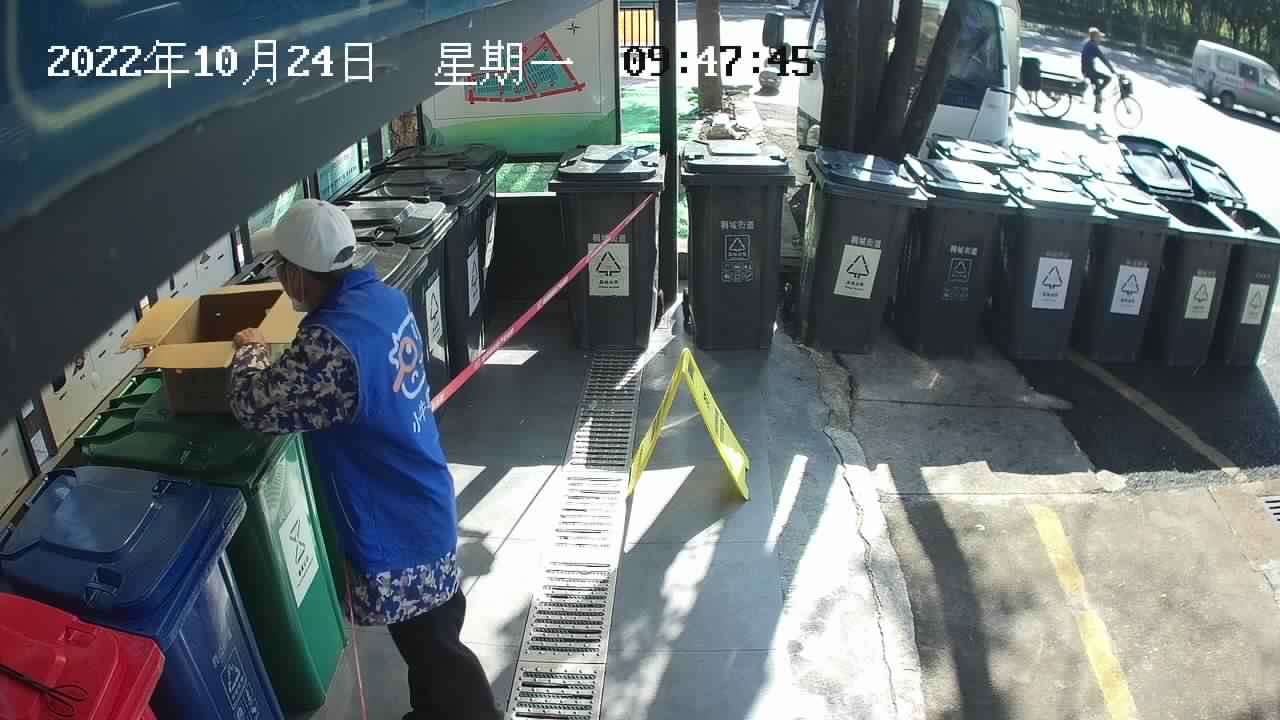worker: (226, 196, 511, 720)
